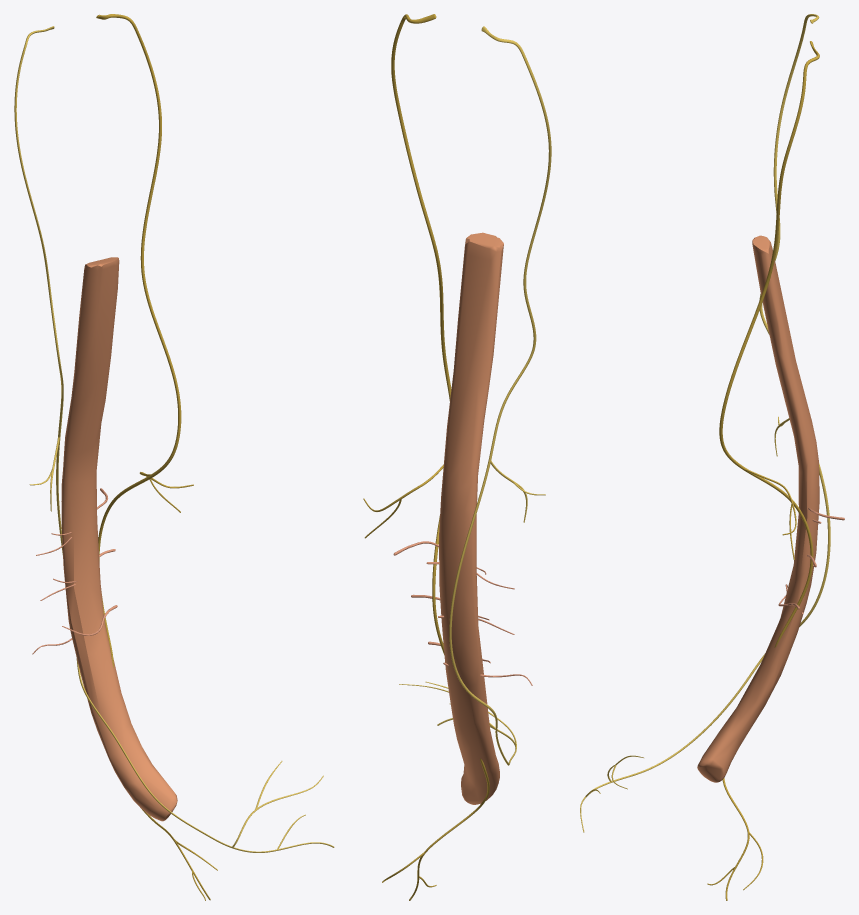
File: esophagus.glb
3 views of the same model, side by side, from view 1: azimuth 30°, elevation 25°; view 2: azimuth 150°, elevation 25°; view 3: azimuth 270°, elevation 25° (orthographic). The views are drawn at different scales.
Parts seen in each view (by area): view 1: esophagus, right-vagus-nerve, left-vagus-nerve; view 2: esophagus, left-vagus-nerve, right-vagus-nerve, esophageal-arteries; view 3: esophagus, left-vagus-nerve, right-vagus-nerve.
Part boxes in pixels (x1,y1,x2,y2): esophagus: (61,257,177,821); right-vagus-nerve: (14,26,334,852); left-vagus-nerve: (96,14,217,900); esophagus: (439,232,503,804); left-vagus-nerve: (363,14,489,900); right-vagus-nerve: (399,26,551,765); esophageal-arteries: (393,541,532,685); esophagus: (697,235,819,782); left-vagus-nerve: (707,41,819,900); right-vagus-nerve: (580,14,830,832).
Bounding box in the file's own units: 1.16 × 4.33 × 1.25.
